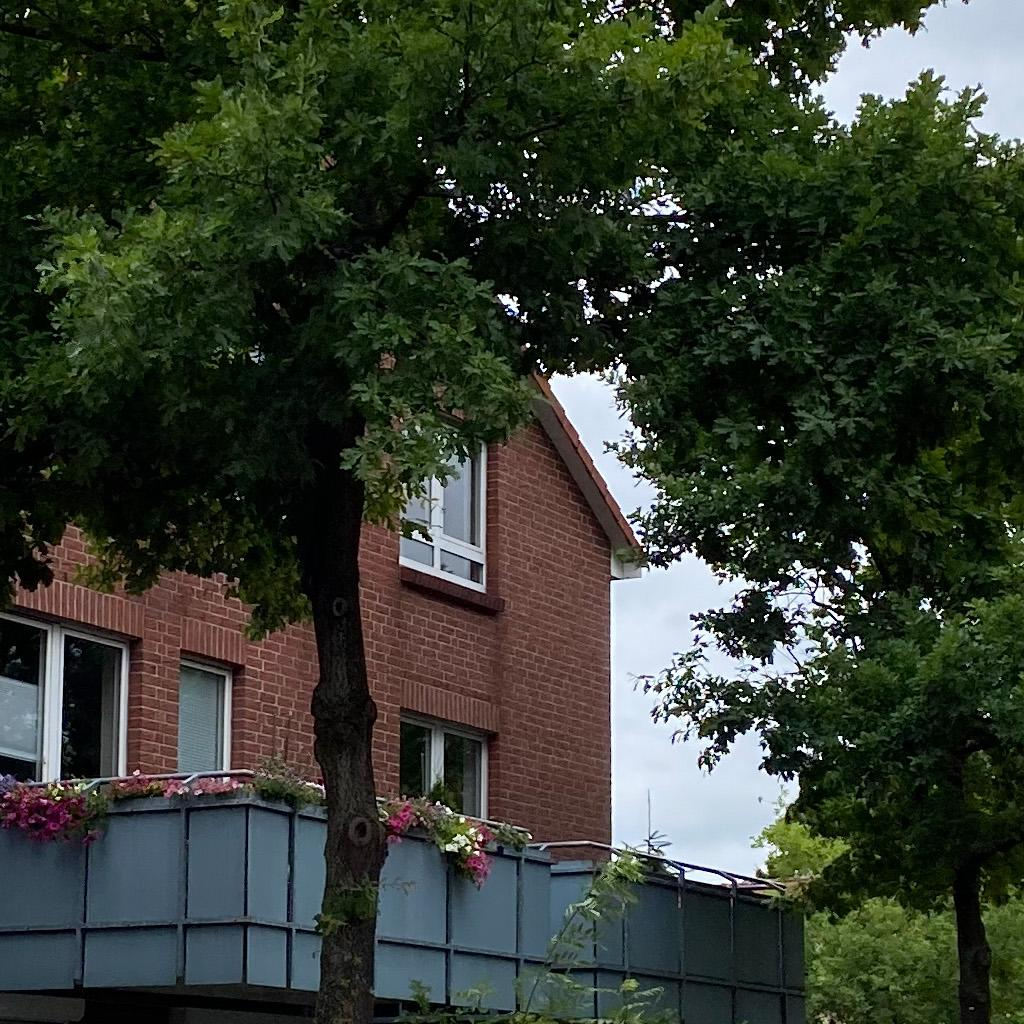tree: (1, 1, 973, 1023), (615, 68, 1023, 1023)
